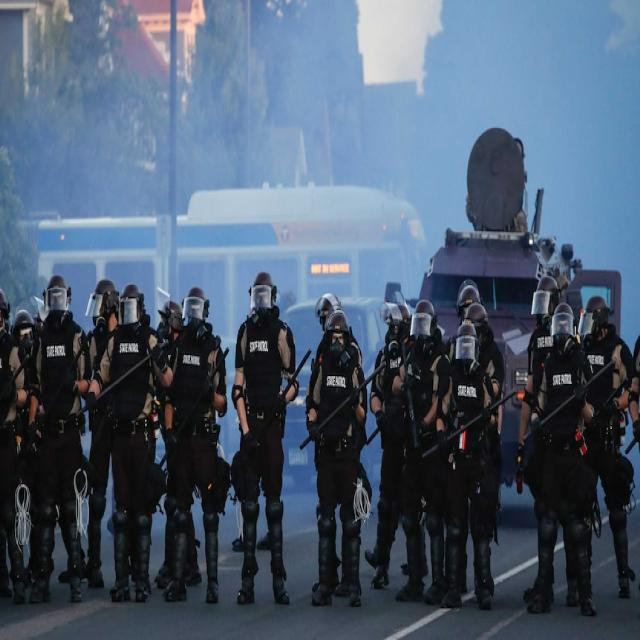police: (13, 259, 93, 601), (227, 241, 297, 629), (299, 272, 376, 624), (375, 256, 446, 622), (157, 269, 229, 622), (522, 252, 588, 627), (92, 252, 160, 608), (438, 267, 502, 627), (581, 290, 637, 626)
